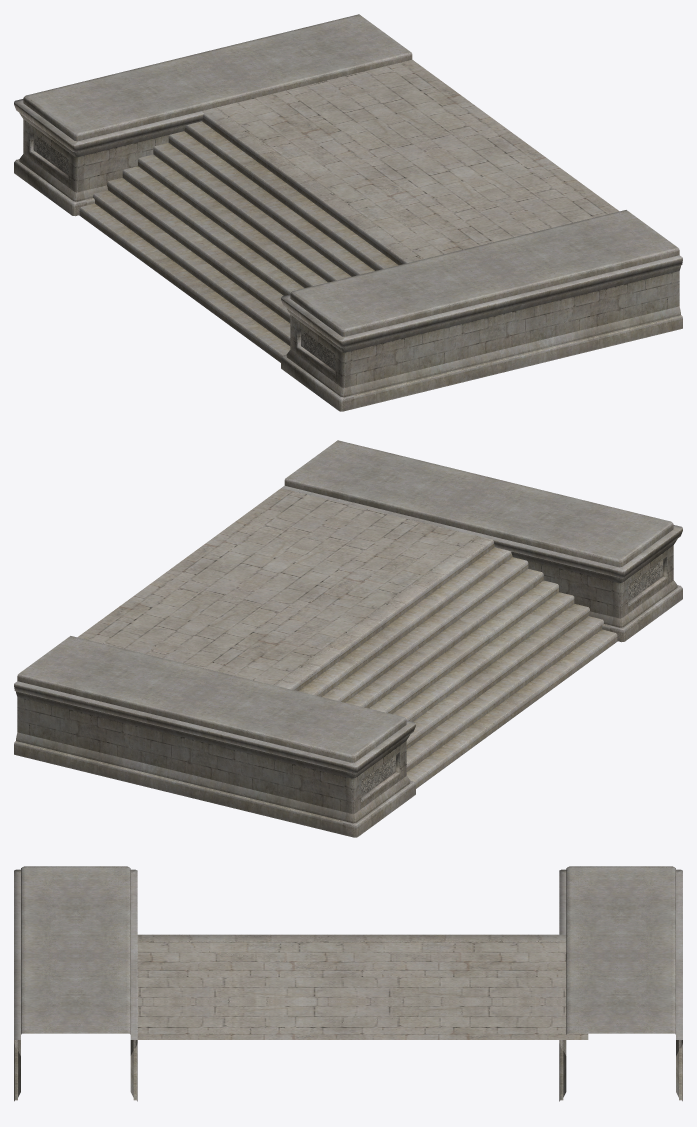
File: Stairs7.fbx
3 renders of one model, top to bottom at view 1: azimuth 30°, elevation 25°; view 2: azimuth 150°, elevation 25°; view 3: azimuth 270°, elevation 25°, orthographic. The views are drawn at different scales.
Visible parts, largest first — view 1: LV_Campagna_Uni_CHINRail_SM_CJH; view 2: LV_Campagna_Uni_CHINRail_SM_CJH; view 3: LV_Campagna_Uni_CHINRail_SM_CJH.
Boxes of the visible parts, bbox=[...] form: LV_Campagna_Uni_CHINRail_SM_CJH: bbox=[14, 14, 682, 411]; LV_Campagna_Uni_CHINRail_SM_CJH: bbox=[14, 440, 682, 837]; LV_Campagna_Uni_CHINRail_SM_CJH: bbox=[14, 866, 682, 1101].
Size of the model in its own units: 2.22 by 0.4832 by 3.68.
